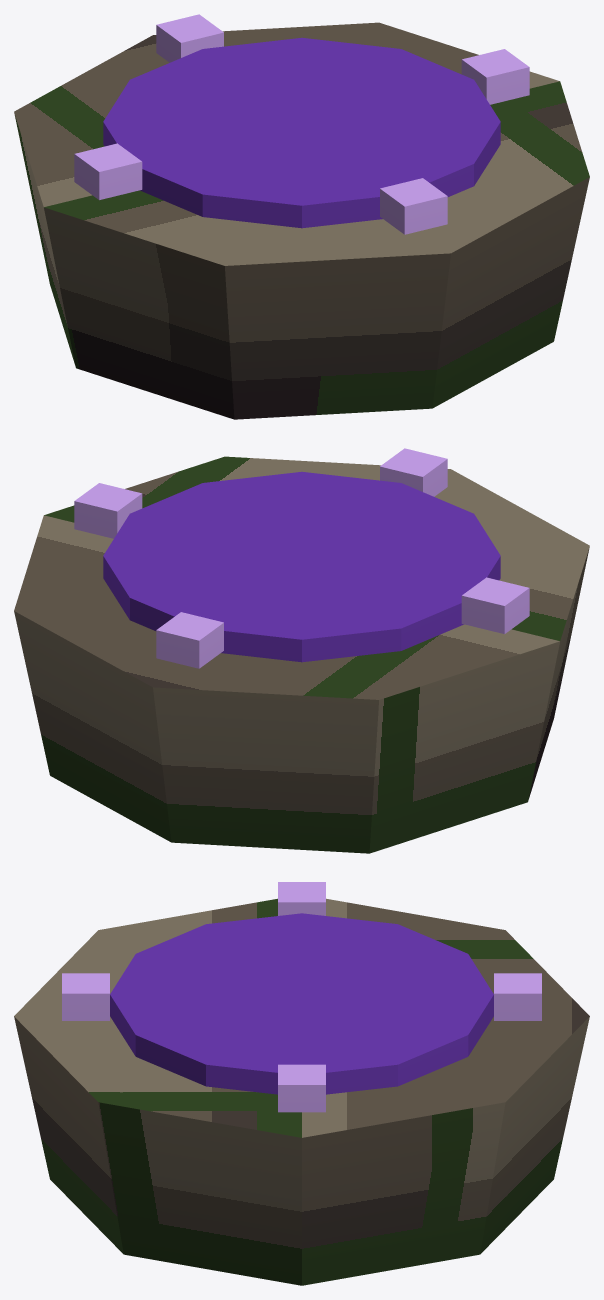
Rendered from mirror_stand.glb.
The picture shows the model from 3 angles, top to bottom: view 1: azimuth 30°, elevation 25°; view 2: azimuth 150°, elevation 25°; view 3: azimuth 270°, elevation 25°; orthographic projection. The views are drawn at different scales.
Parts seen in each view (by area): view 1: mirror_stand; view 2: mirror_stand; view 3: mirror_stand.
Part boxes in pixels (bbox=[...]): mirror_stand: bbox=[14, 14, 589, 419]; mirror_stand: bbox=[14, 448, 589, 853]; mirror_stand: bbox=[14, 882, 589, 1285].
Bounding box in the file's own units: 0.96 × 0.36 × 0.96.
Materials: 2 (1 with a texture image).
